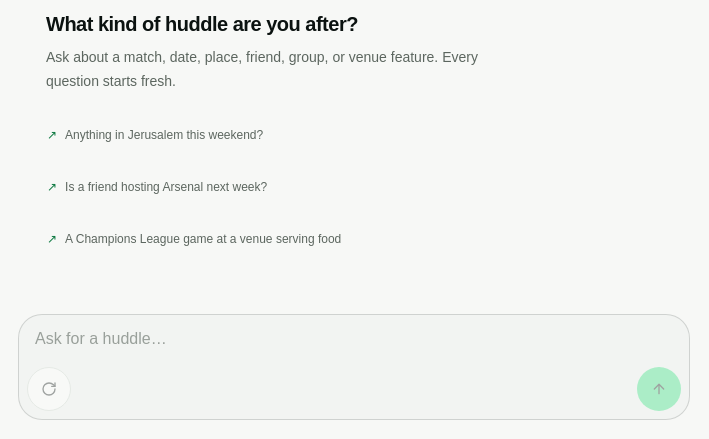
Test case: AssistedDiscoveryChat › announces safe HTTP 429 errors
The width and height of the screenshot is (709, 439).
Type "Arsenal tomorrow" into the text box named "Ask Huddle what you want to watch".
click(354, 339); type("Arsenal tomorrow")  # box [19,315,689,363]
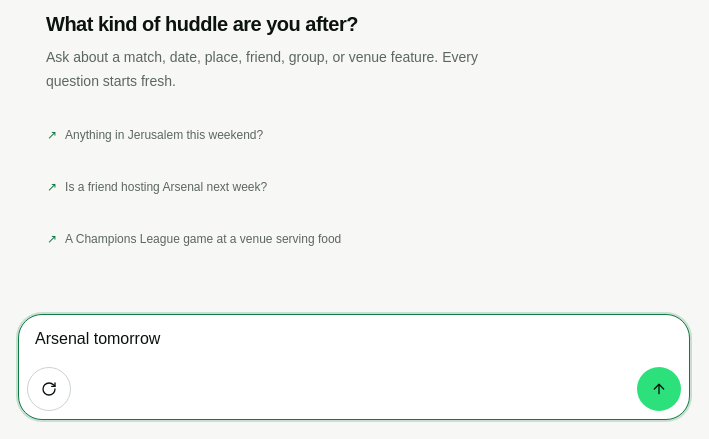
Click the button named "Send question".
click(659, 389)  # box [637,367,681,411]
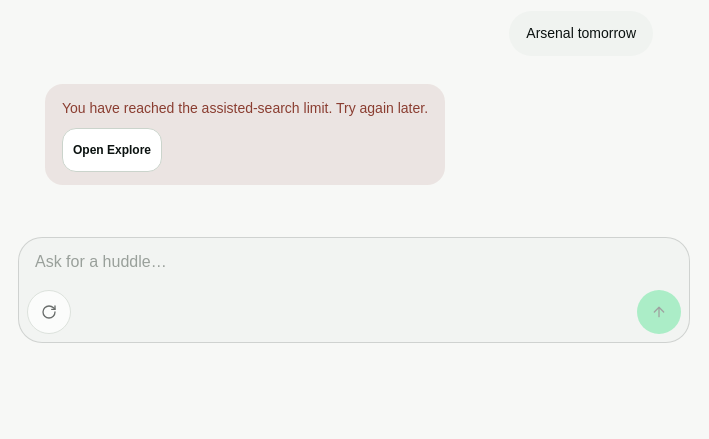
Expected: the message shows "You have reached the assisted-search limit. Try again later.", [62,100,428,116]
